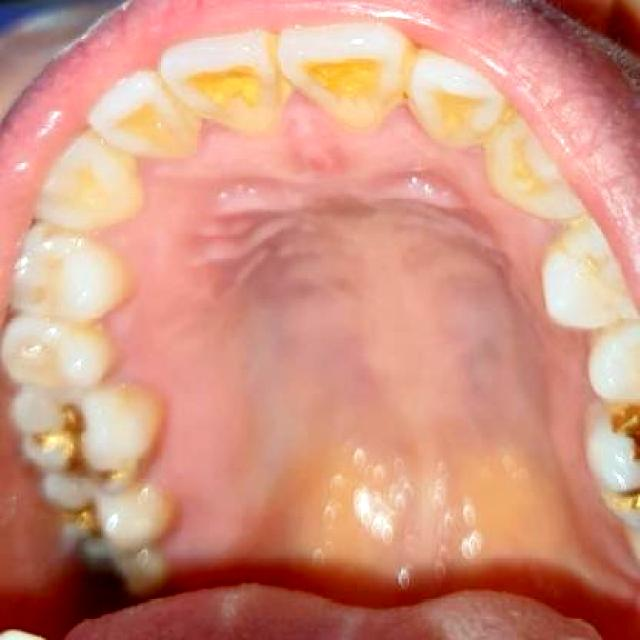Plaque: (33, 284, 64, 311), (37, 224, 67, 247), (583, 258, 604, 276)
